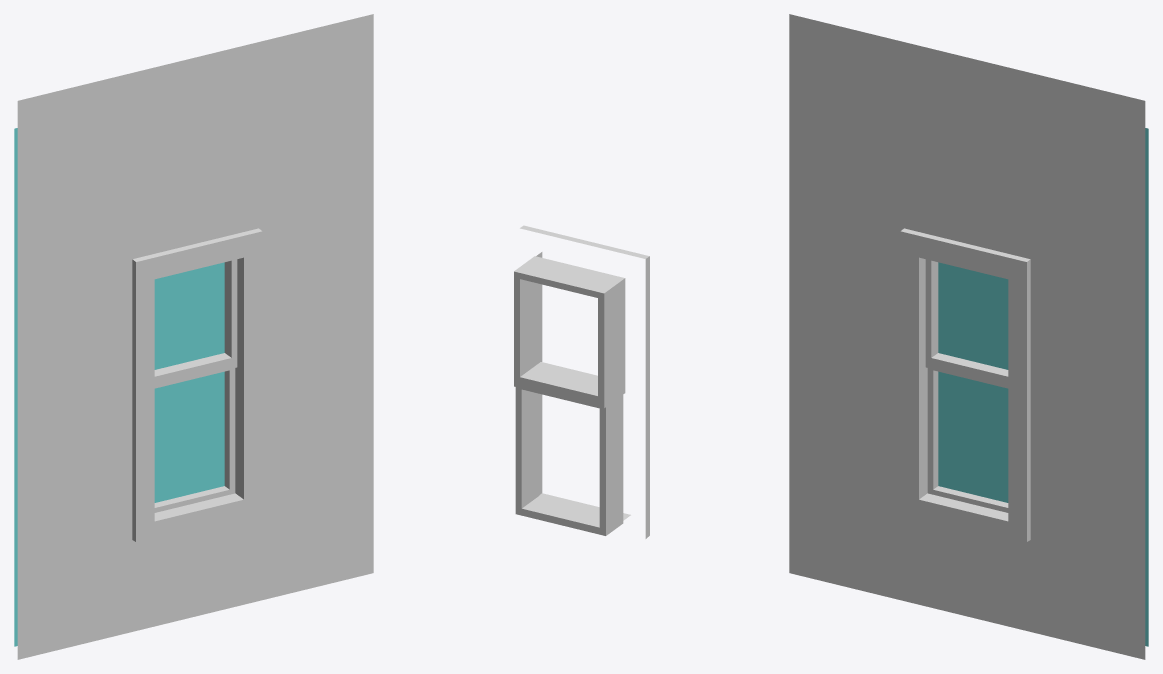
File: Brick_Window_Square_Single.gltf
3 views of the same model, side by side, from view 1: azimuth 30°, elevation 25°; view 2: azimuth 150°, elevation 25°; view 3: azimuth 330°, elevation 25° (orthographic).
Parts seen in each view (by area): view 1: Brick_Window_Square_Single; view 2: Brick_Window_Square_Single; view 3: Brick_Window_Square_Single.
Part boxes in pixels (x1,y1,x2,y2): Brick_Window_Square_Single: [14, 14, 373, 659]; Brick_Window_Square_Single: [514, 225, 649, 538]; Brick_Window_Square_Single: [789, 14, 1148, 659].
Bounding box in the file's own units: 2 × 3 × 0.271.
